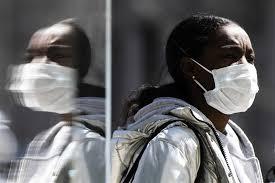mask: (169, 25, 265, 116)
